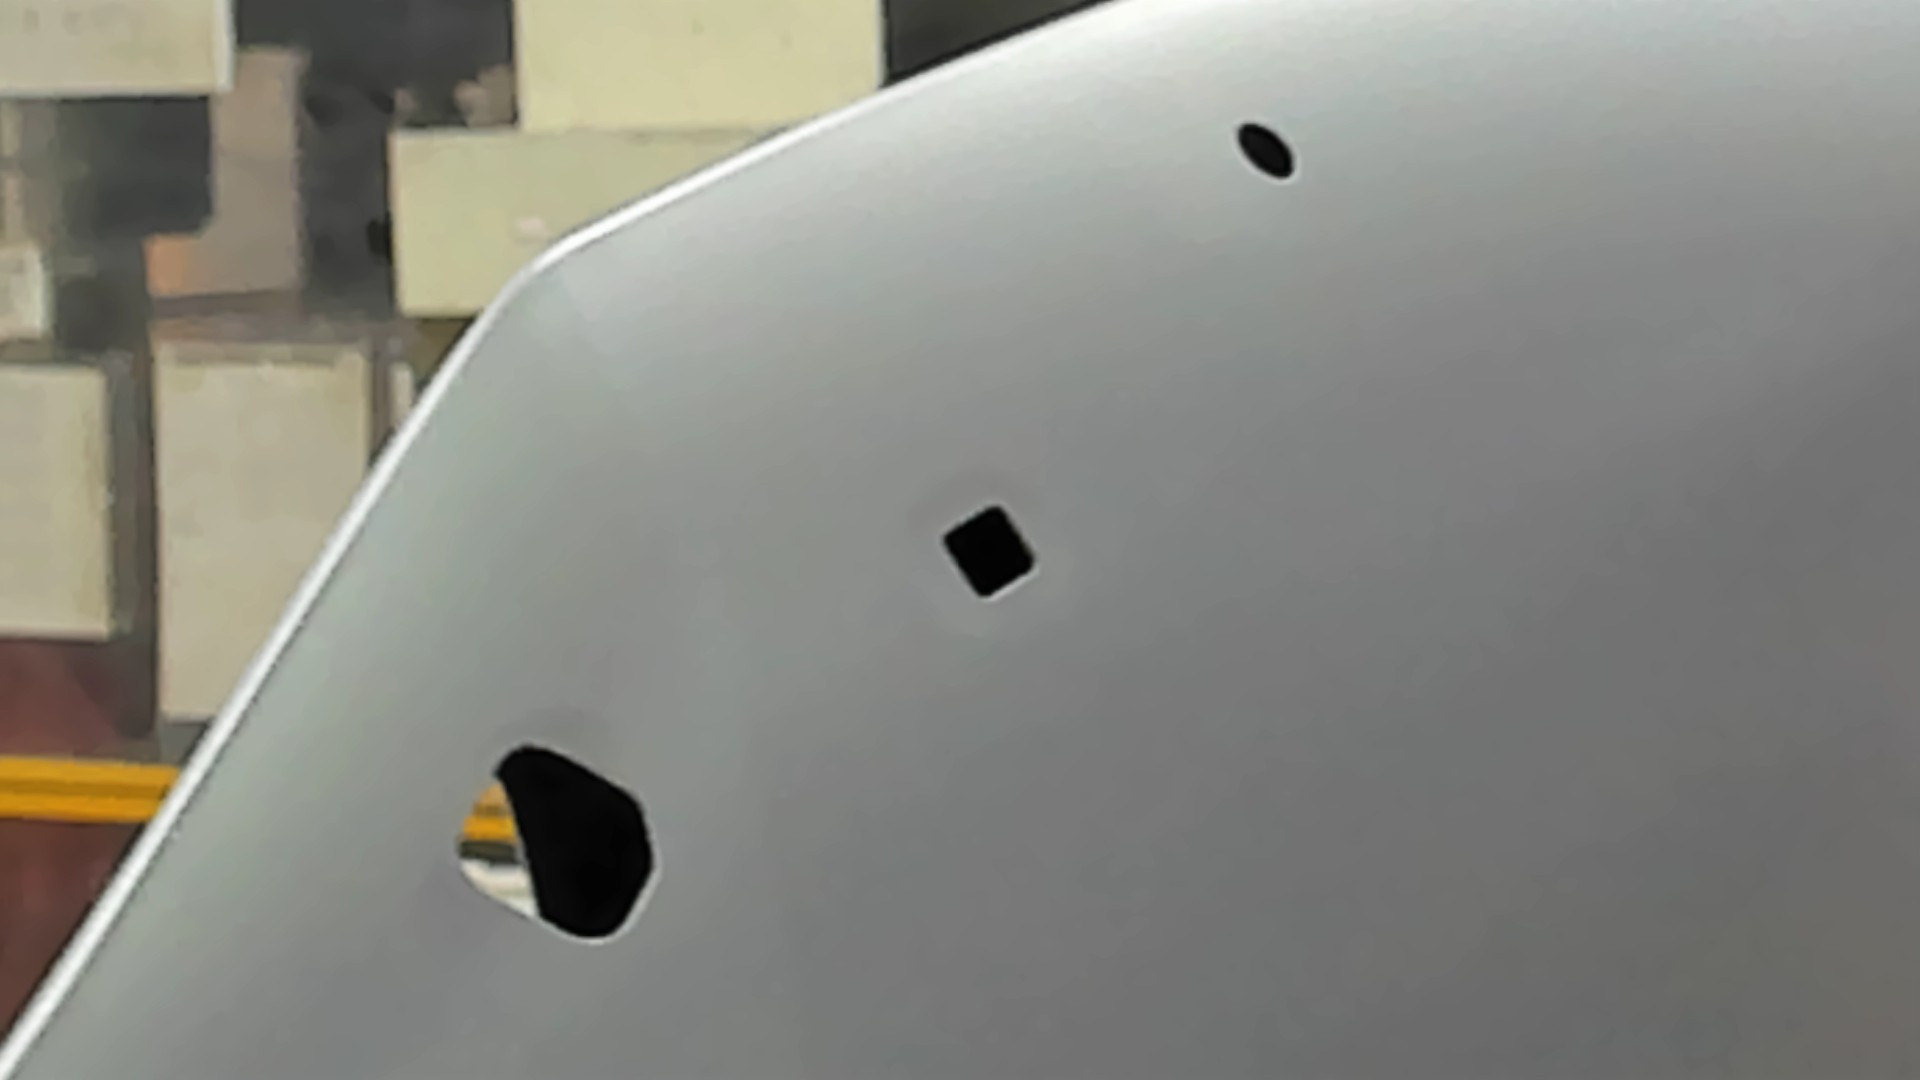chico: (1230, 117, 1304, 182)
grande: (450, 742, 663, 955)
mediano: (934, 498, 1044, 611)
